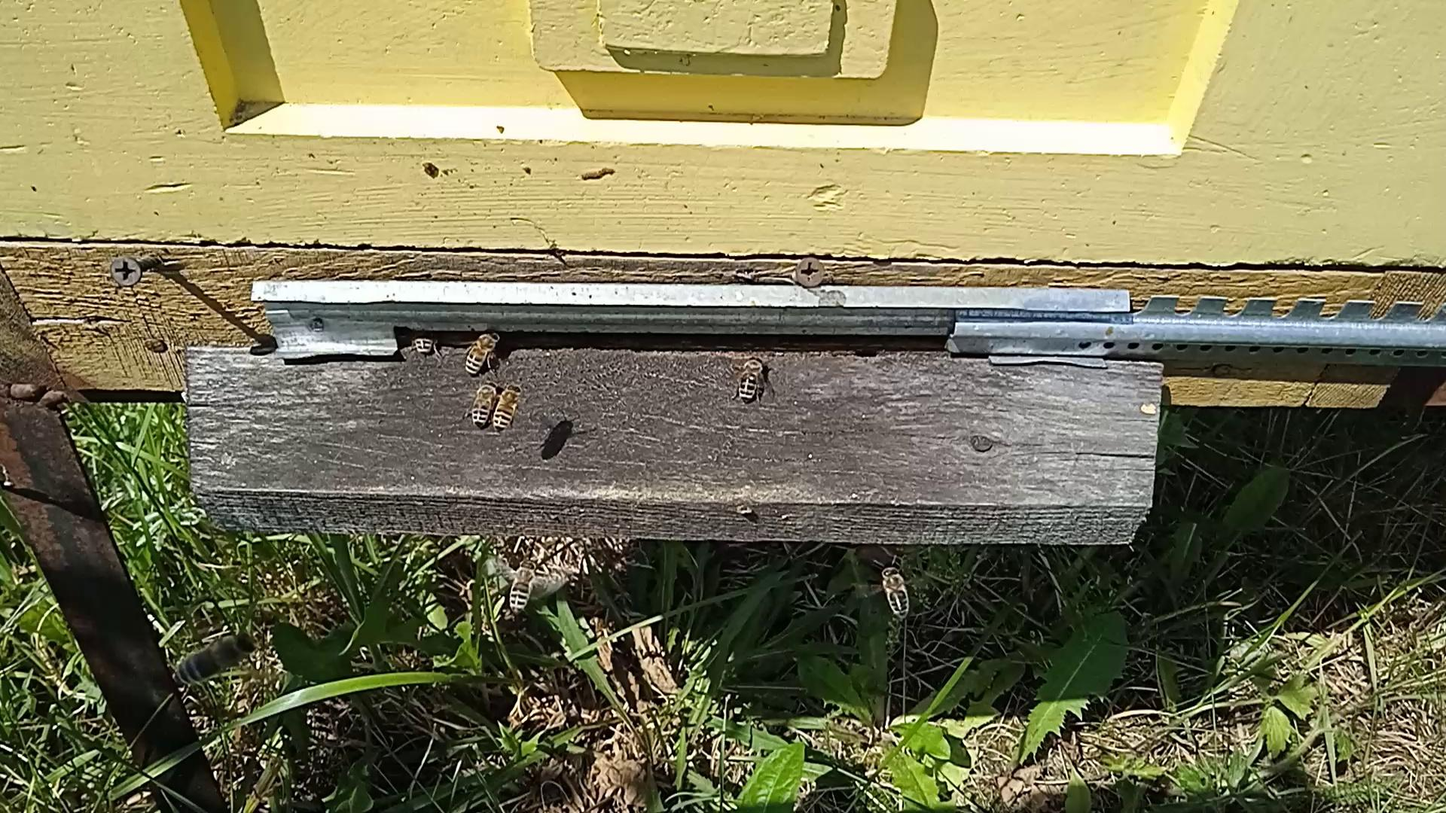worker-bee: (171, 634, 257, 687), (464, 330, 503, 375), (880, 565, 911, 619), (508, 559, 538, 612), (735, 355, 768, 403), (492, 381, 523, 431), (470, 379, 499, 428), (405, 330, 439, 358)
